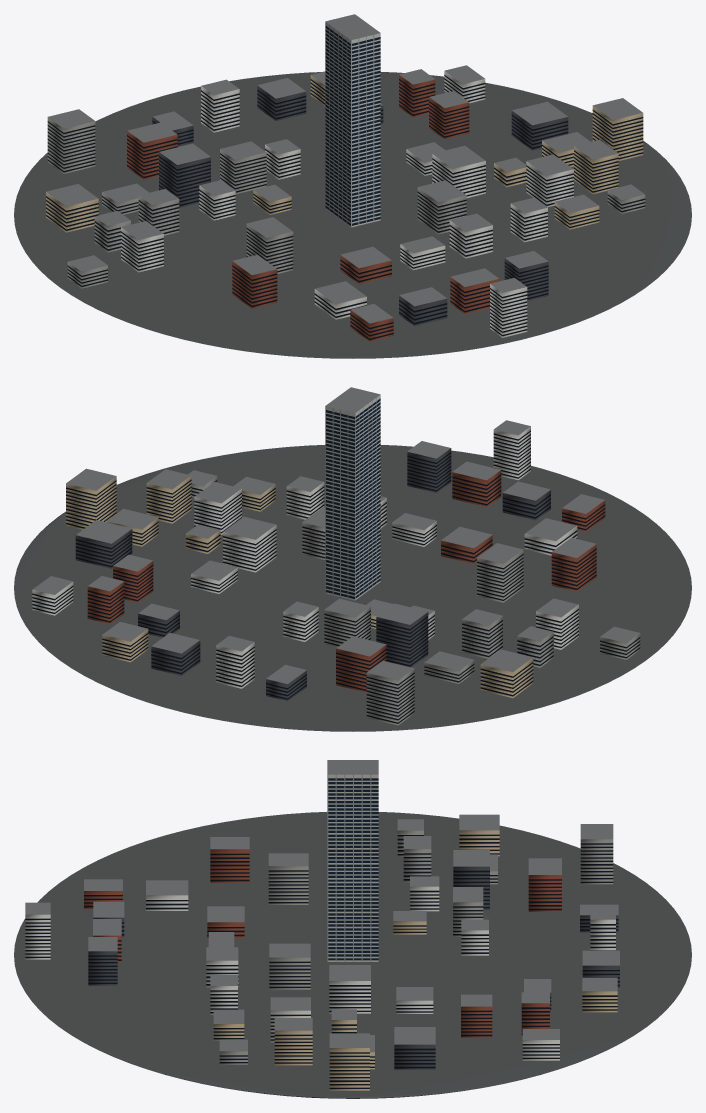
Rendered from caarc_building.light.glb.
3 renders of one model, top to bottom at view 1: azimuth 30°, elevation 25°; view 2: azimuth 150°, elevation 25°; view 3: azimuth 270°, elevation 25°, orthographic.
Parts seen in each view (by area): view 1: ground, caarc_tower__glass_curtain, caarc_tower__facade_panel, caarc_tower__mullion, building_08__facade_concrete, building_44__facade_beige, building_13__facade_dark, building_20__facade_white, building_18__facade_concrete, building_40__facade_beige, building_05__facade_brick, building_11__facade_concrete (+67 smaller); view 2: ground, caarc_tower__glass_curtain, caarc_tower__facade_panel, caarc_tower__mullion, building_08__facade_concrete, building_13__facade_dark, building_44__facade_beige, building_11__facade_concrete, building_30__facade_white, building_20__facade_white, building_25__facade_dark, building_40__facade_beige (+68 smaller); view 3: ground, caarc_tower__glass_curtain, caarc_tower__facade_panel, caarc_tower__mullion, building_44__facade_beige, building_11__facade_concrete, building_08__facade_concrete, building_40__facade_beige, building_27__facade_concrete, building_05__facade_brick, building_30__facade_white, building_14__facade_brick (+46 smaller).
Part boxes in pixels (x1,y1,x2,y2): ground: (14,72,691,358); caarc_tower__glass_curtain: (325,26,380,225); caarc_tower__facade_panel: (325,22,380,227); caarc_tower__mullion: (325,22,374,227); building_08__facade_concrete: (47,117,95,173); building_44__facade_beige: (592,106,643,160); building_13__facade_dark: (159,152,210,207); building_20__facade_white: (490,284,527,337); building_18__facade_concrete: (220,149,266,193); building_40__facade_beige: (574,146,618,193); building_05__facade_brick: (232,261,277,308); building_11__facade_concrete: (246,224,293,273); ground: (14,445,691,731); caarc_tower__glass_curtain: (326,398,380,598); caarc_tower__facade_panel: (326,395,380,600); caarc_tower__mullion: (325,397,376,600); building_08__facade_concrete: (366,668,414,725); building_13__facade_dark: (376,612,428,667); building_44__facade_beige: (66,476,116,529); building_11__facade_concrete: (477,550,523,602); building_30__facade_white: (223,525,276,572); building_20__facade_white: (493,426,530,480); building_25__facade_dark: (407,448,451,492); building_40__facade_beige: (146,475,191,523); ground: (14,812,691,1098); caarc_tower__glass_curtain: (328,778,378,960); caarc_tower__facade_panel: (328,774,378,961); caarc_tower__mullion: (327,774,371,961); building_44__facade_beige: (329,1048,369,1090); building_11__facade_concrete: (268,866,308,904); building_08__facade_concrete: (580,839,613,884); building_40__facade_beige: (274,1030,312,1065); building_27__facade_concrete: (269,957,310,989); building_05__facade_brick: (210,849,249,882); building_30__facade_white: (329,981,370,1013); building_14__facade_brick: (528,875,561,911).
Size of the model in its own units: 600 by 184 by 600.
